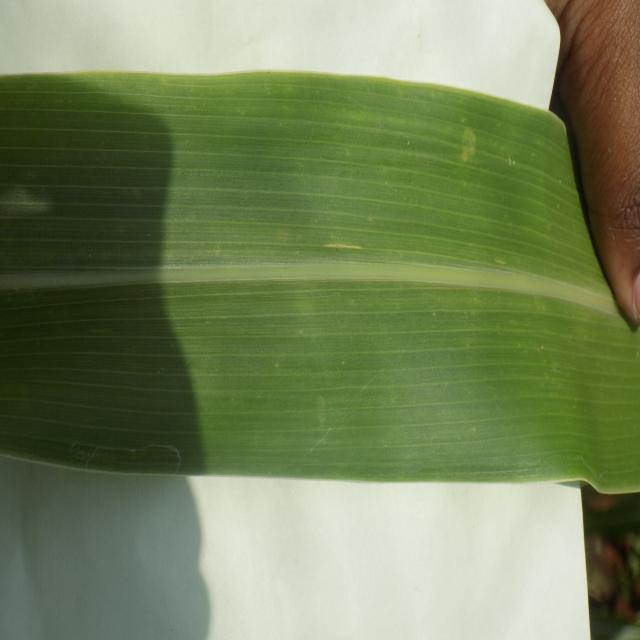millet_healthy: (0, 72, 640, 492)
